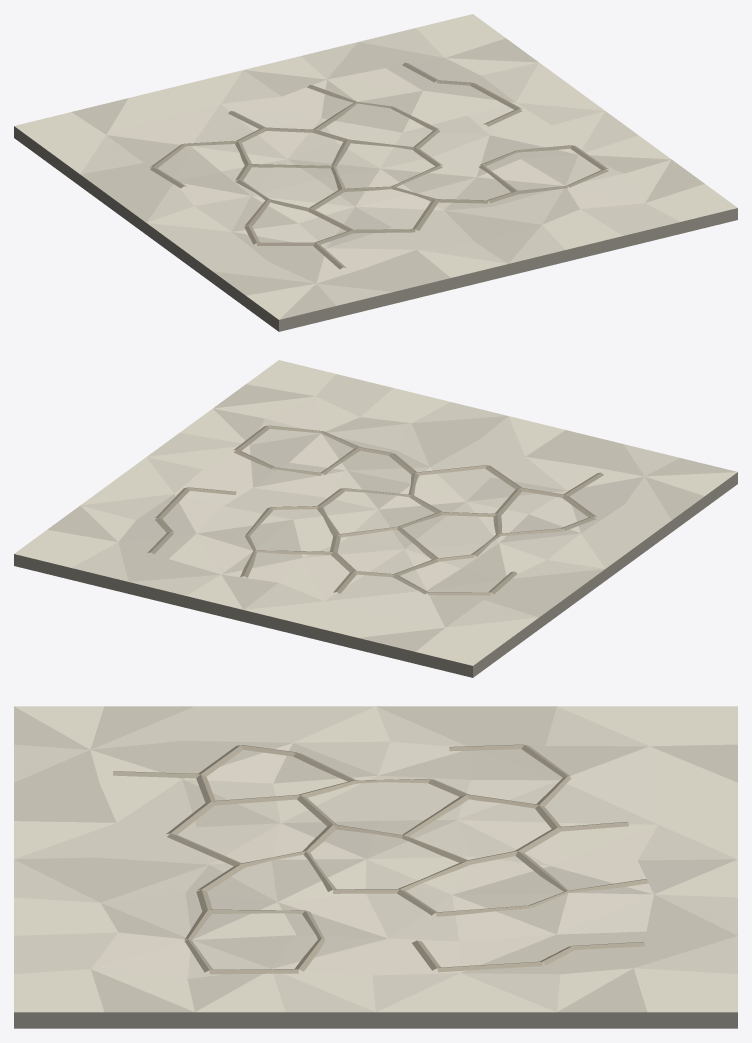
Rendered from ground_salt_flat_b.obj.
3 renders of one model, top to bottom at view 1: azimuth 30°, elevation 25°; view 2: azimuth 150°, elevation 25°; view 3: azimuth 270°, elevation 25°, orthographic. The views are drawn at different scales.
Size of the model in its own units: 4 by 0.112 by 4.
